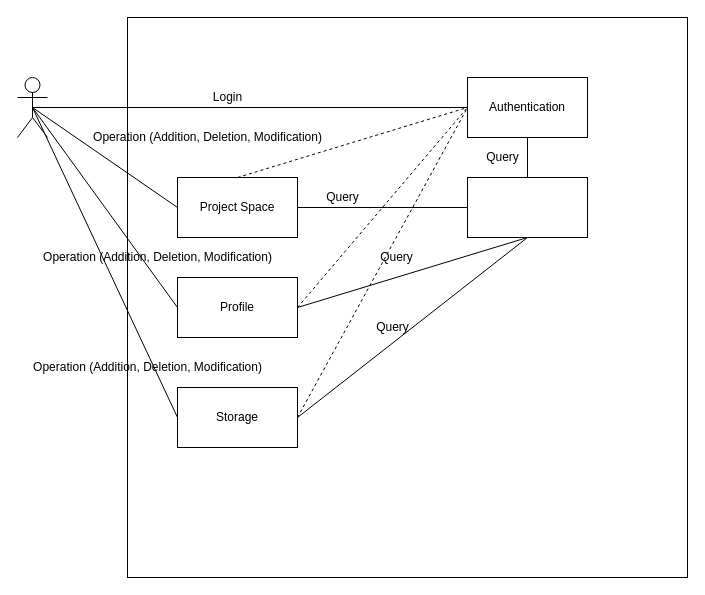
Image size: 705x595. Some labels were removed from this diagram. Each missing label, with the centre of its shape:
Database: point (527, 207)
User: point (32, 107)
